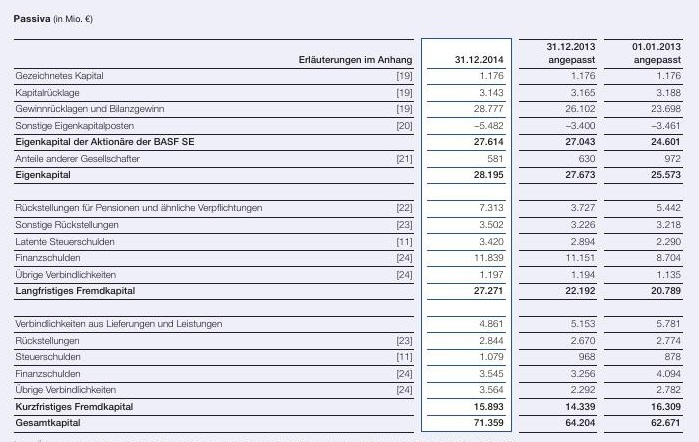table: (0, 0, 699, 442)
